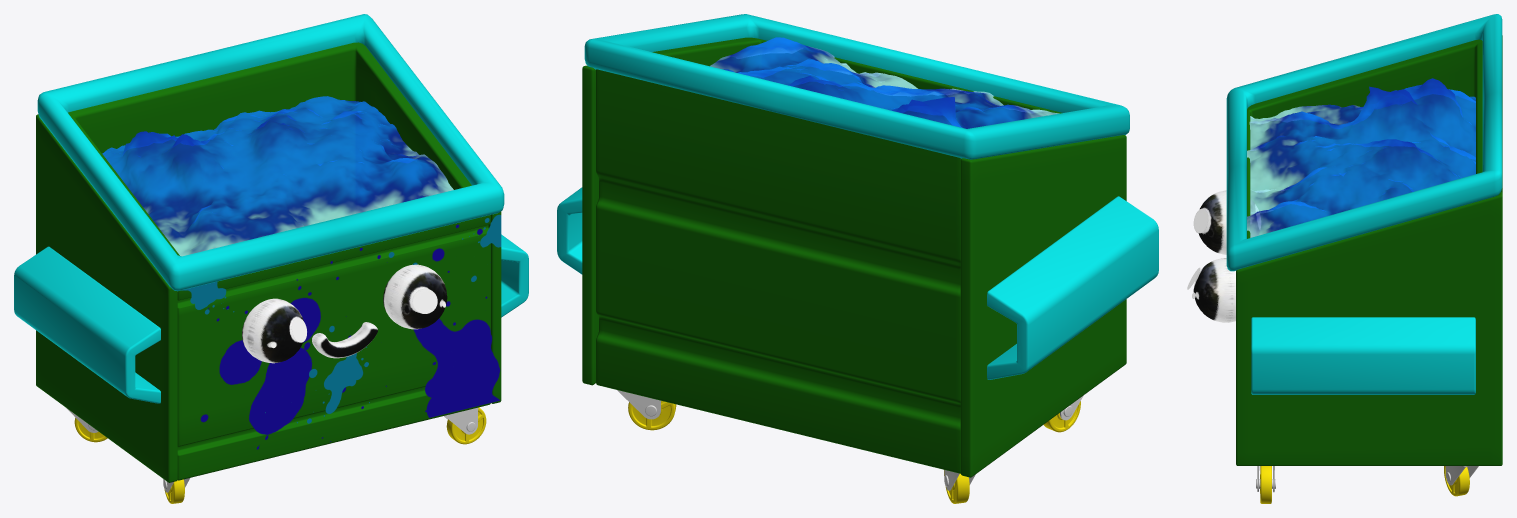
3 renders of one model, left to right at view 1: azimuth 30°, elevation 25°; view 2: azimuth 150°, elevation 25°; view 3: azimuth 270°, elevation 25°, orthographic. The views are drawn at different scales.
Parts seen in each view (by area): view 1: Dumpster Geometry, Explosion Fire Base.001, Wheel Holder; view 2: Dumpster Geometry, Explosion Fire Base.001, Wheel Holder; view 3: Dumpster Geometry, Explosion Fire Base.001, Wheel Holder.
Boxes of the visible parts, box(x1,y1,x2,y2) form: Dumpster Geometry: box(14, 14, 528, 503); Explosion Fire Base.001: box(102, 96, 453, 256); Wheel Holder: box(66, 407, 478, 492); Dumpster Geometry: box(557, 14, 1158, 503); Explosion Fire Base.001: box(710, 37, 1059, 128); Wheel Holder: box(617, 390, 1083, 490); Dumpster Geometry: box(1187, 14, 1502, 503); Explosion Fire Base.001: box(1247, 78, 1475, 237); Wheel Holder: box(1256, 466, 1478, 492).
Size of what is drawn, in the model's own units: 2.31 by 1.85 by 1.56.
Materials: 8 (4 with a texture image).
